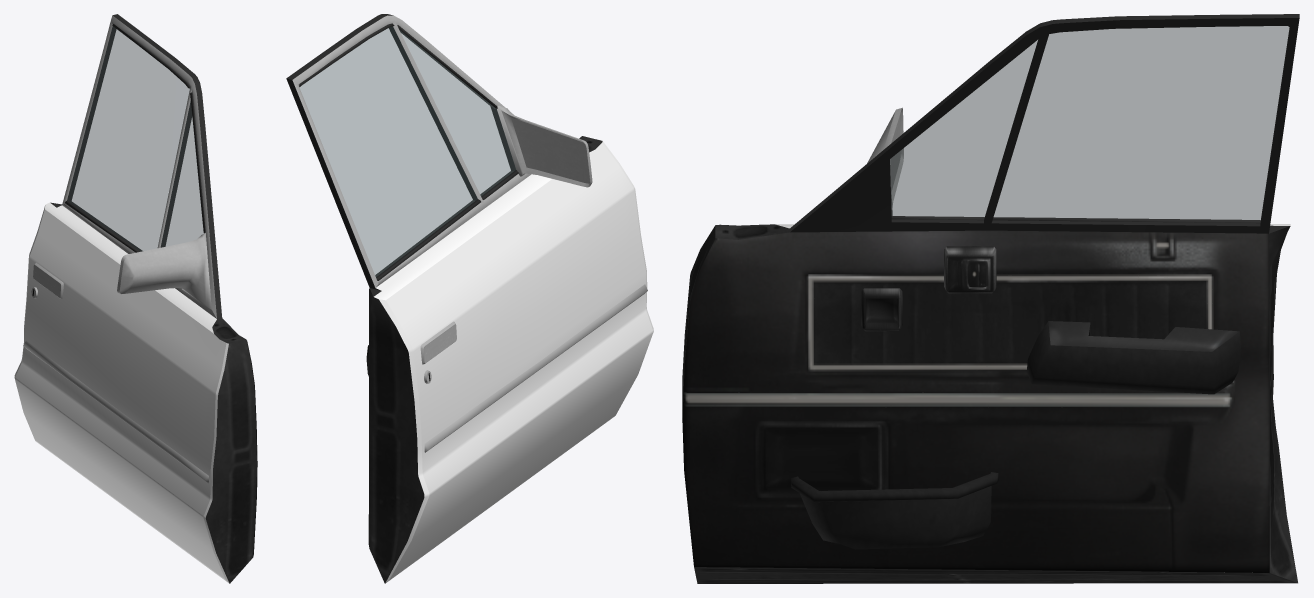
File: DoorFL.obj
3 renders of one model, left to right at view 1: azimuth 30°, elevation 25°; view 2: azimuth 150°, elevation 25°; view 3: azimuth 270°, elevation 25°, orthographic. The views are drawn at different scales.
Parts seen in each view (by area): view 1: Door_FR; view 2: Door_FR; view 3: Door_FR.
Part boxes in pixels (x1,y1,x2,y2): Door_FR: [14, 14, 257, 583]; Door_FR: [286, 14, 653, 583]; Door_FR: [682, 14, 1299, 583].
Size of the model in its own units: 7 by 21.16 by 18.83.
